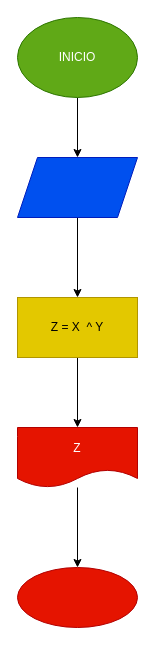
Some shapes in this 155 by 645 pixel diagram are drawn without their labels. Here are the shapes that lost their labels. From the top down, the centre of each, then its label:
At point 77,187: "X , Y".
At point 77,597: "FIN".
